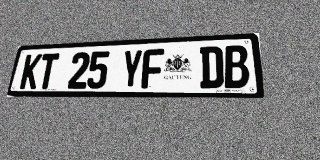2: (67, 52, 91, 89)
5: (86, 51, 110, 89)
B: (223, 45, 250, 88)
D: (200, 46, 224, 88)
F: (141, 49, 164, 88)
K: (19, 54, 42, 89)
T: (36, 53, 59, 89)
Y: (120, 49, 143, 89)
